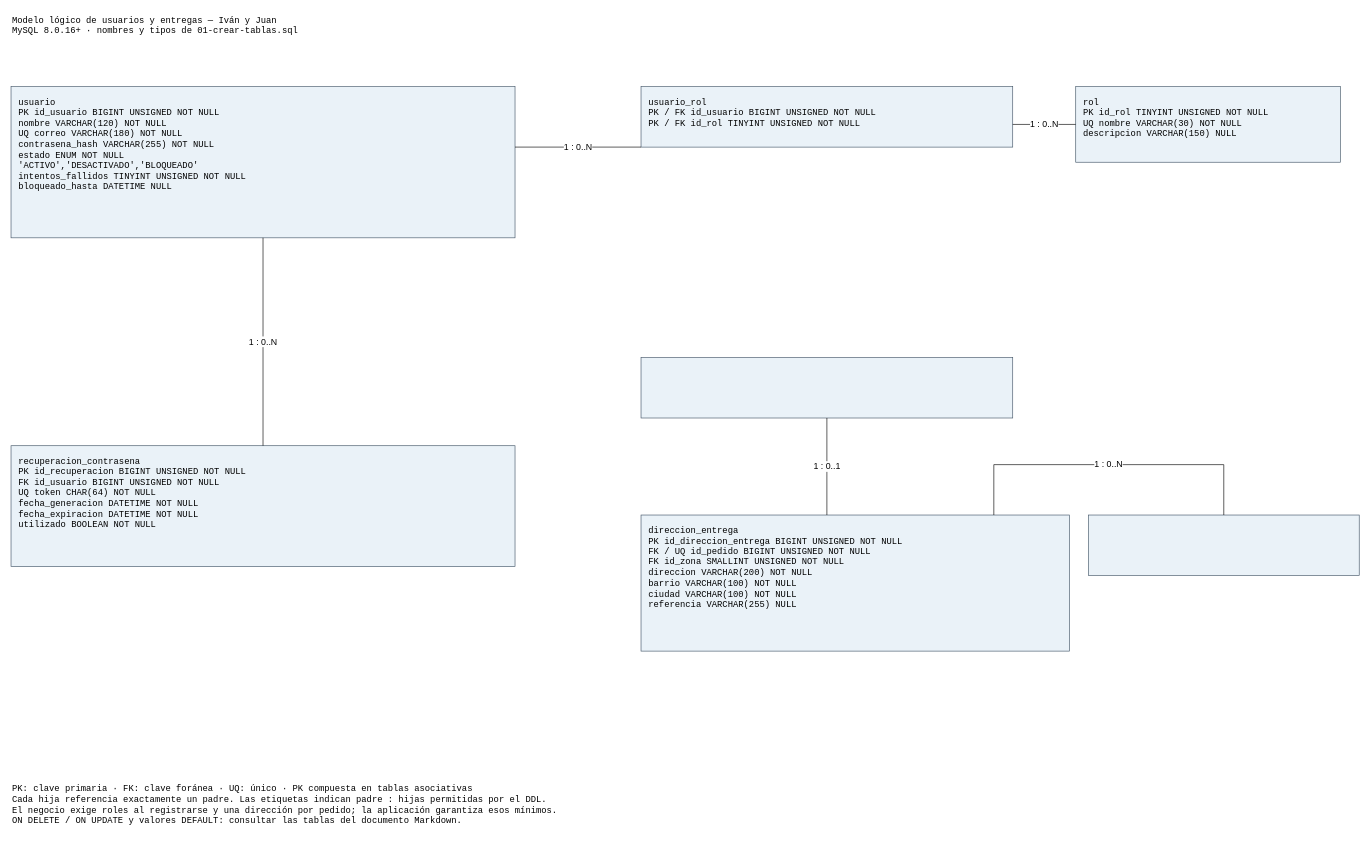
Some shapes in this 1370 by 866 pixel diagram are drawn without their labels. Each missing label, with the box of its shape:
pedido referencia externa (solo PK) PK id_pedido BIGINT UNSIGNED NOT NULL: (640, 357, 1013, 418)
zona referencia externa (solo PK) PK id_zona SMALLINT UNSIGNED NOT NULL: (1088, 514, 1359, 576)
